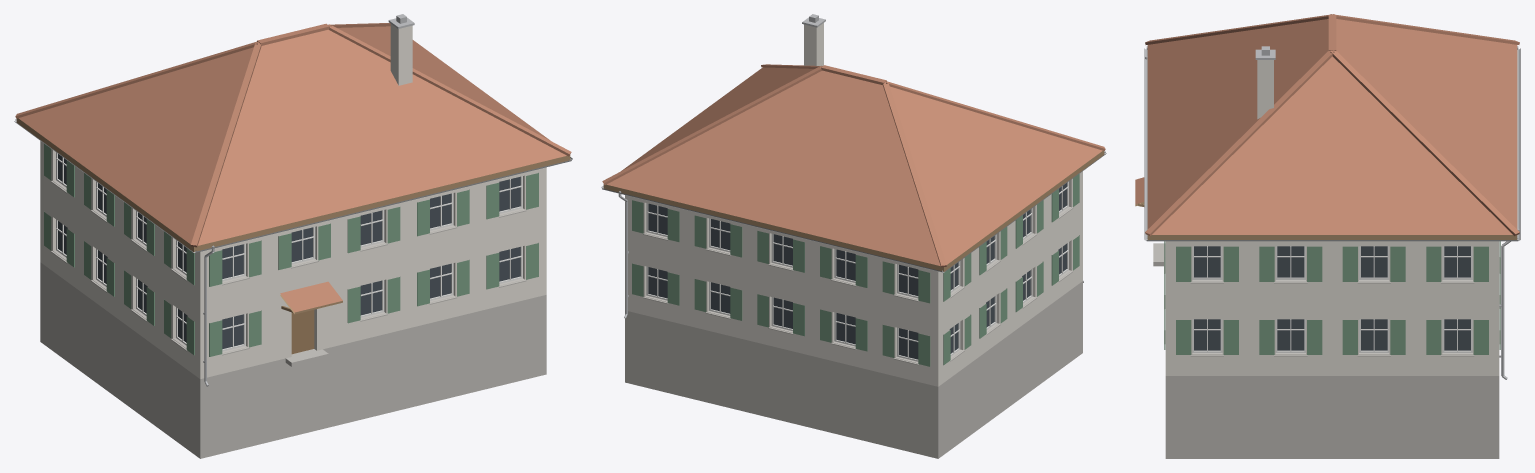
Rendered from house_hipped_2_l.glb.
3 renders of one model, left to right at view 1: azimuth 30°, elevation 25°; view 2: azimuth 150°, elevation 25°; view 3: azimuth 270°, elevation 25°, orthographic. The views are drawn at different scales.
Visible parts, largest first — view 1: house_hipped_2_l; view 2: house_hipped_2_l; view 3: house_hipped_2_l.
Boxes of the visible parts, x1,y1,x2,y2 form: house_hipped_2_l: (14, 14, 572, 458); house_hipped_2_l: (601, 14, 1106, 458); house_hipped_2_l: (1135, 14, 1520, 458).
Size of the model in its own units: 16.5 by 14.35 by 13.88.
